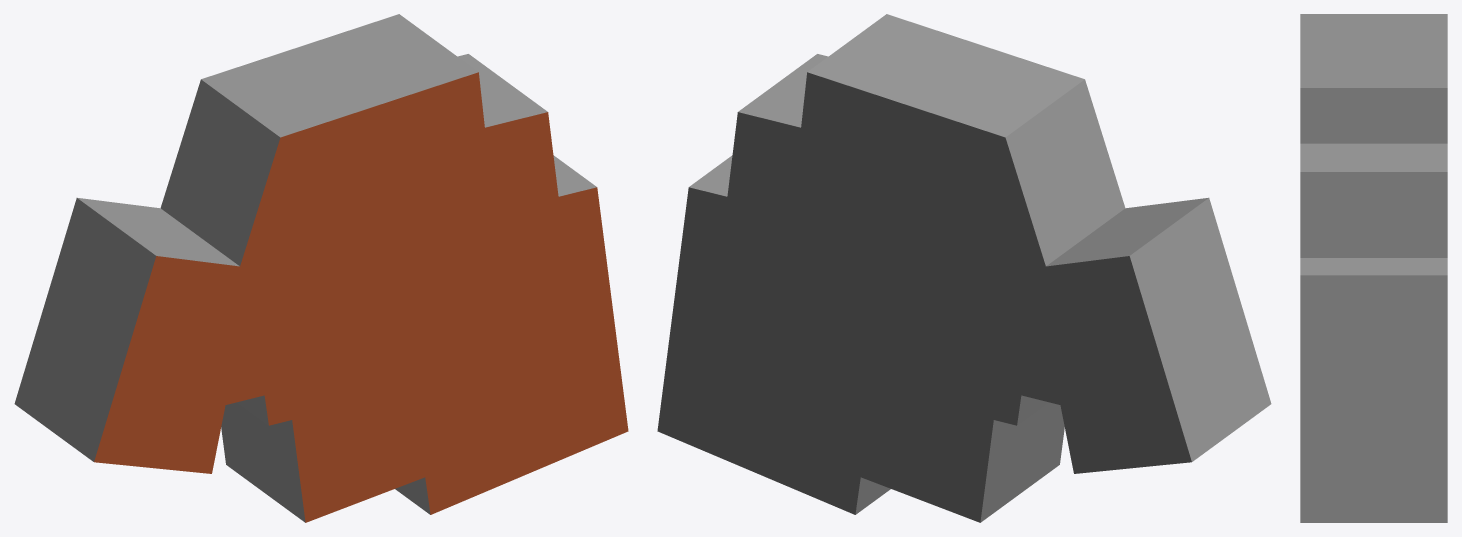
Rendered from construction_0906_assumed_A_Casa_h6m.obj.
3 renders of one model, left to right at view 1: azimuth 30°, elevation 25°; view 2: azimuth 150°, elevation 25°; view 3: azimuth 270°, elevation 25°, orthographic. The views are drawn at different scales.
Visible parts, largest first — view 1: construction_0906_assumed_A_Casa; view 2: construction_0906_assumed_A_Casa; view 3: construction_0906_assumed_A_Casa.
Boxes of the visible parts, <box> form: construction_0906_assumed_A_Casa: <box>14,14,628,522</box>; construction_0906_assumed_A_Casa: <box>657,14,1271,522</box>; construction_0906_assumed_A_Casa: <box>1300,14,1447,522</box>.
Size of the model in its own units: 23.28 by 17.94 by 6.
